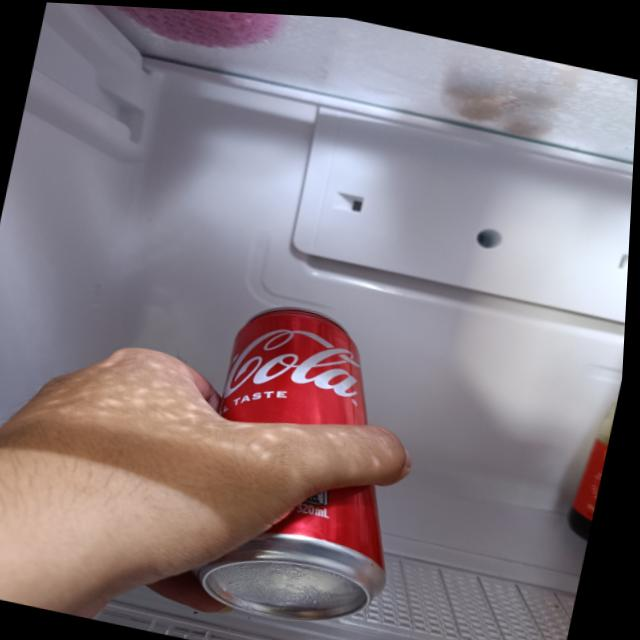coke: (181, 291, 442, 633)
